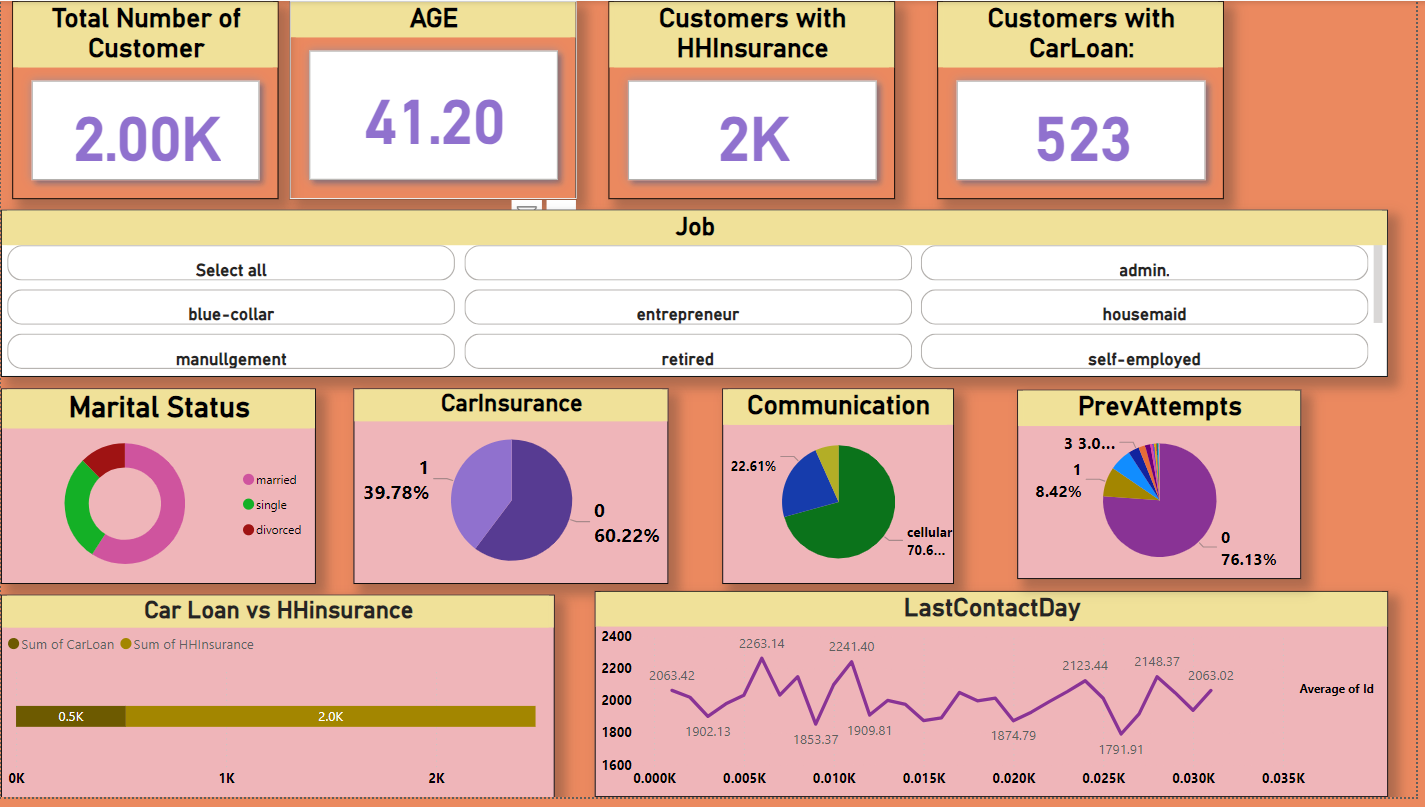

Layout of this report page (visuals, bound fields, positions):
{"tool":"powerbi","page":{"name":"Page 3","canvas":[1280,720],"ordinal":2},"visuals":[{"type":"cardVisual","title":"Total Number of Customer","fields":{"Data":["Avg(carInsurance_data (1).Id)"]},"box":[10.5,0,240.7,179.1],"z":0},{"type":"cardVisual","title":"Customers with HHInsurance","fields":{"Data":["Sum(carInsurance_data (1).HHInsurance)"]},"box":[550,0,259.3,179.1],"z":1000},{"type":"cardVisual","title":" Customers with CarLoan:","fields":{"Data":["Sum(carInsurance_data (1).CarLoan)"]},"box":[846.5,0,259.3,179.1],"z":2000},{"type":"cardVisual","title":"AGE","fields":{"Data":["Avg(carInsurance_data (1).Age)"]},"box":[261.6,0,259.3,179.1],"z":3000},{"type":"advancedSlicerVisual","fields":{"Values":["carInsurance_data (1).Job"]},"box":[0,188.4,1254.7,151.2],"z":4000},{"type":"donutChart","title":"Marital Status","fields":{"Category":["carInsurance_data (1).Marital"],"Y":["CountNonNull(carInsurance_data (1).Id)"]},"box":[0,350,284.9,176.7],"z":5000},{"type":"pieChart","title":"CarInsurance","fields":{"Category":["carInsurance_data (1).CarInsurance"],"Y":["CountNonNull(carInsurance_data (1).Id)"]},"box":[318.6,350,284.9,176.7],"z":6000},{"type":"barChart","title":"Car Loan vs HHinsurance","fields":{"Y":["Sum(carInsurance_data (1).CarLoan)","Sum(carInsurance_data (1).HHInsurance)"]},"box":[0,536.5,500.9,183.9],"z":7000},{"type":"pieChart","title":"Communication","fields":{"Category":["carInsurance_data (1).Communication"],"Y":["CountNonNull(carInsurance_data (1).Id)"]},"box":[652.3,350,209.3,176.7],"z":8000},{"type":"lineChart","title":"LastContactDay","fields":{"Category":["carInsurance_data (1).LastContactDay"],"Y":["Avg(carInsurance_data (1).Id)"]},"box":[536.5,533.8,717.7,186.6],"z":9000},{"type":"pieChart","title":"PrevAttempts","fields":{"Y":["CountNonNull(carInsurance_data (1).Id)"],"Category":["carInsurance_data (1).PrevAttempts"]},"box":[919.4,351.3,256.6,171.5],"z":10000}]}

Visuals, with their boxes in screenshot pixels (x1, y1, x2, y2), scaled from the page's 1280x720 canvas onto the 1425x807 screenshot:
"Total Number of Customer" cardVisual: select_region(12, 0, 280, 201)
"Customers with HHInsurance" cardVisual: select_region(612, 0, 901, 201)
" Customers with CarLoan:" cardVisual: select_region(942, 0, 1231, 201)
"AGE" cardVisual: select_region(291, 0, 580, 201)
advancedSlicerVisual - carInsurance_data (1).Job: select_region(0, 211, 1397, 381)
"Marital Status" donutChart: select_region(0, 392, 317, 590)
"CarInsurance" pieChart: select_region(355, 392, 672, 590)
"Car Loan vs HHinsurance" barChart: select_region(0, 601, 558, 806)
"Communication" pieChart: select_region(726, 392, 959, 590)
"LastContactDay" lineChart: select_region(597, 598, 1396, 806)
"PrevAttempts" pieChart: select_region(1024, 394, 1309, 586)
